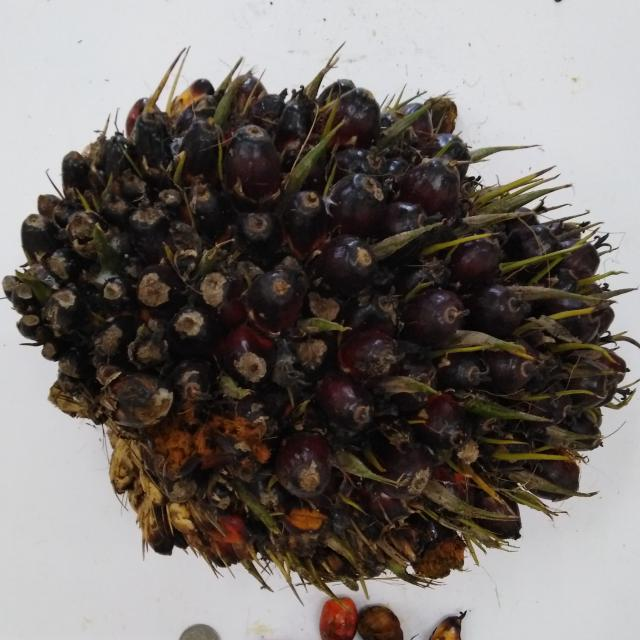FFB: (26, 83, 617, 572)
